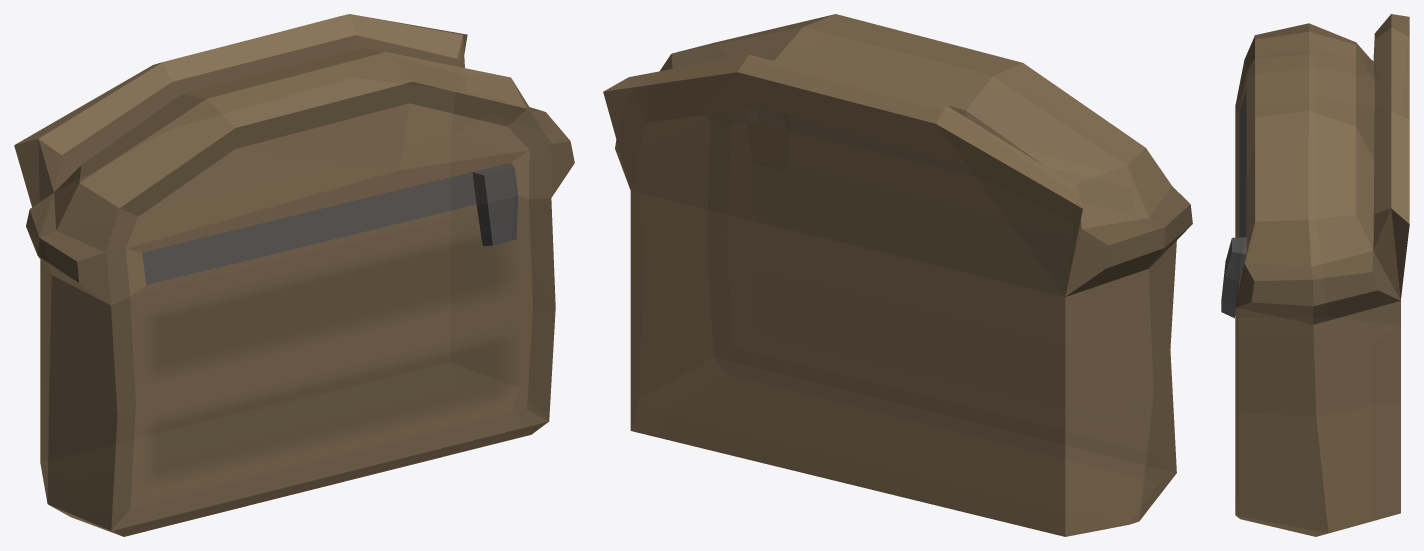
Rendered from SM_Chr_Attach_Pouch_05.fbx.
3 views of the same model, side by side, from view 1: azimuth 30°, elevation 25°; view 2: azimuth 150°, elevation 25°; view 3: azimuth 270°, elevation 25° (orthographic). The views are drawn at different scales.
Visible parts, largest first — view 1: SM_Chr_Attach_Pouch_05; view 2: SM_Chr_Attach_Pouch_05; view 3: SM_Chr_Attach_Pouch_05.
Part boxes in pixels (x1=…): SM_Chr_Attach_Pouch_05: x1=14, y1=14, x2=574, y2=536; SM_Chr_Attach_Pouch_05: x1=603, y1=14, x2=1192, y2=536; SM_Chr_Attach_Pouch_05: x1=1221, y1=14, x2=1409, y2=536.
Bounding box in the file's own units: 22.38 × 16.47 × 7.59.
